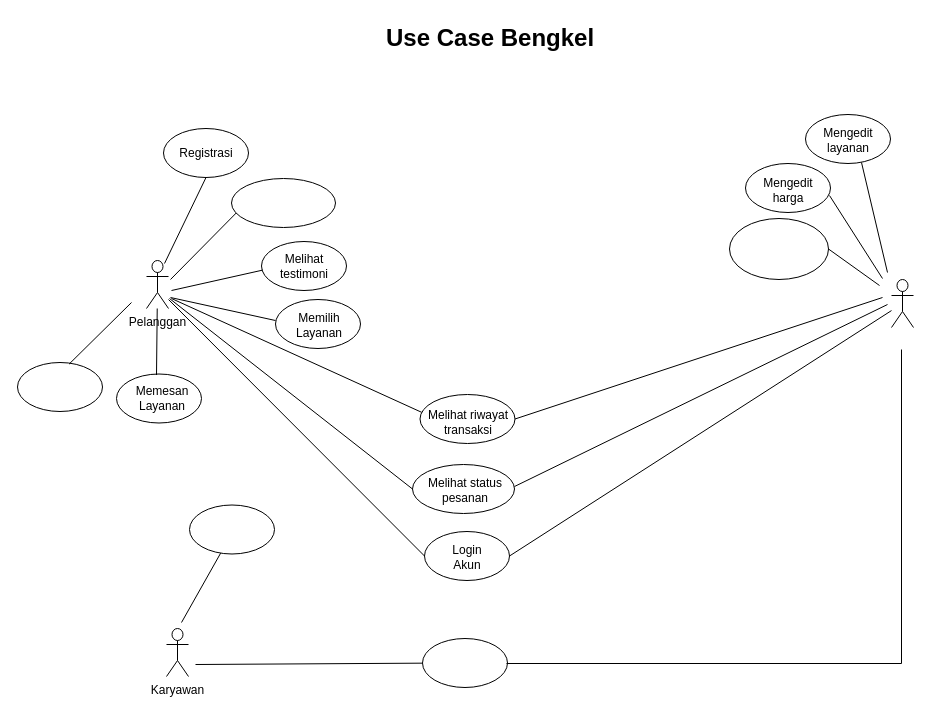
Some shapes in this 937 by 714 pixel diagram are drawn without their labels. The shapes that lost their labels are listed below. From the top down, each one's box as (x1, y1, x2, y2) in pixels, then its label:
(230, 178, 336, 228): Melihat - lihat layanan, harga
(728, 218, 828, 280): Membalas Keluhan Pelanggan
(890, 278, 914, 328): Admin
(16, 362, 102, 412): Membayar Pesanan
(188, 504, 274, 554): Melakukan Pesanan
(422, 638, 508, 688): Menerima Pesanan
